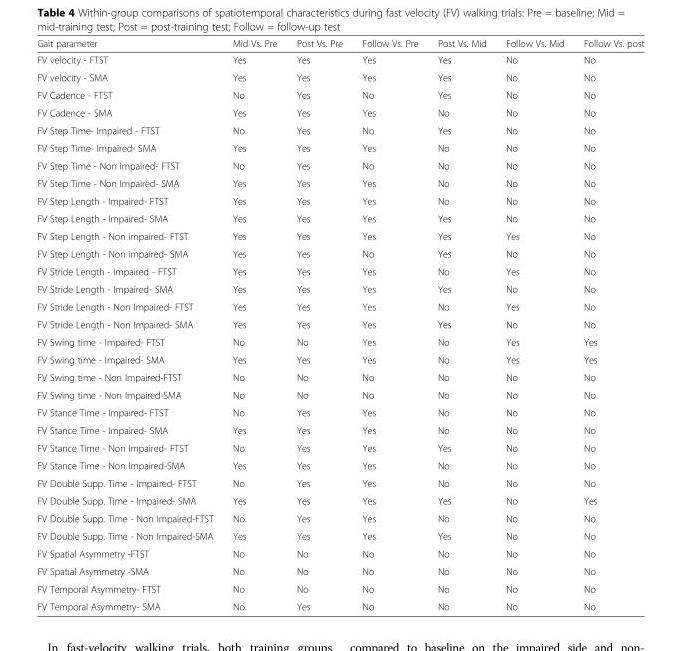table: (36, 37, 643, 611)
table column: (36, 37, 222, 611), (495, 37, 573, 611), (351, 37, 427, 611), (573, 37, 643, 611), (427, 37, 495, 611), (286, 37, 351, 611), (222, 37, 286, 611)
table column header: (36, 37, 643, 51)
table row: (36, 85, 643, 103), (36, 103, 643, 121), (36, 138, 643, 156), (36, 156, 643, 174), (36, 191, 643, 209), (36, 209, 643, 227), (36, 244, 643, 262), (36, 279, 643, 297), (36, 297, 643, 315), (36, 332, 643, 350), (36, 350, 643, 368), (36, 385, 643, 403), (36, 403, 643, 421), (36, 438, 643, 456), (36, 456, 643, 474), (36, 491, 643, 509), (36, 526, 643, 544), (36, 544, 643, 562), (36, 579, 643, 597), (36, 51, 643, 68), (36, 68, 643, 85), (36, 121, 643, 138), (36, 174, 643, 191), (36, 227, 643, 244), (36, 262, 643, 279), (36, 315, 643, 332), (36, 368, 643, 385), (36, 421, 643, 438), (36, 474, 643, 491), (36, 509, 643, 526), (36, 562, 643, 579), (36, 37, 643, 51), (36, 597, 643, 611)
